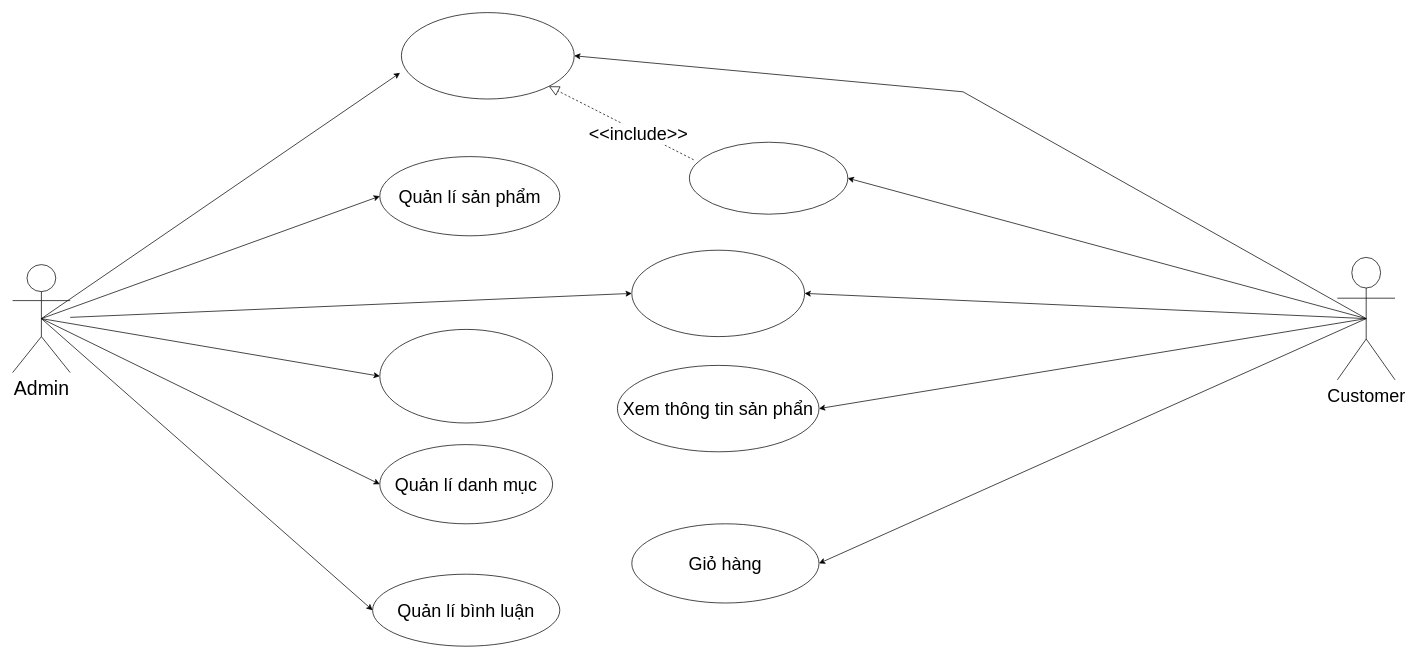
This 1418x659 diagram has some shape labels left out. Here are the shapes that lost their labels. From the top down, the centre of each, then its label:
At (487,55): "Đăng nhập/Đăng kí".
At (768,177): "Đặt mua hàng".
At (718,293): "Tim kiếm sản phẩm".
At (466,376): "Quản lí đơn hàng".
